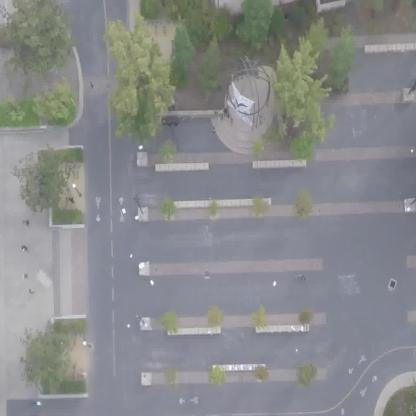Bicyclist: (289, 270, 308, 286)
Pedestrian: (23, 283, 40, 300), (16, 242, 32, 257), (224, 111, 236, 127), (21, 215, 34, 229), (208, 121, 218, 136), (218, 108, 226, 121)
